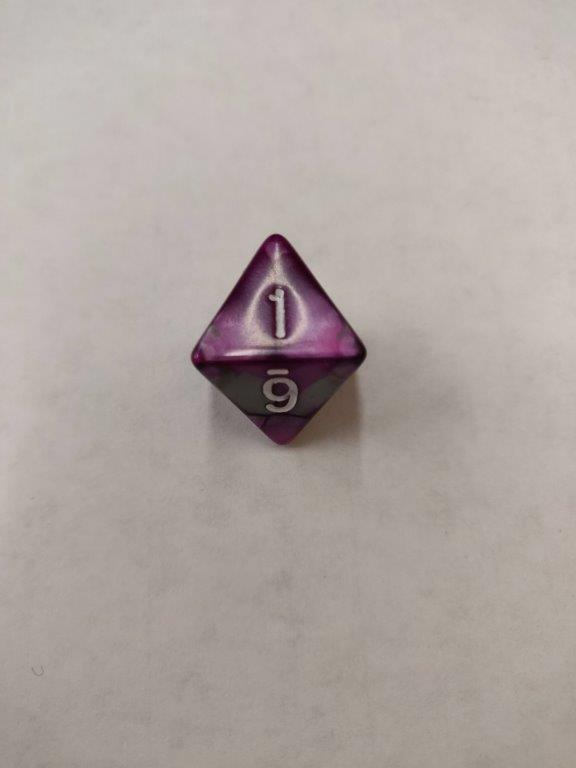d8-1: (188, 235, 366, 448)
